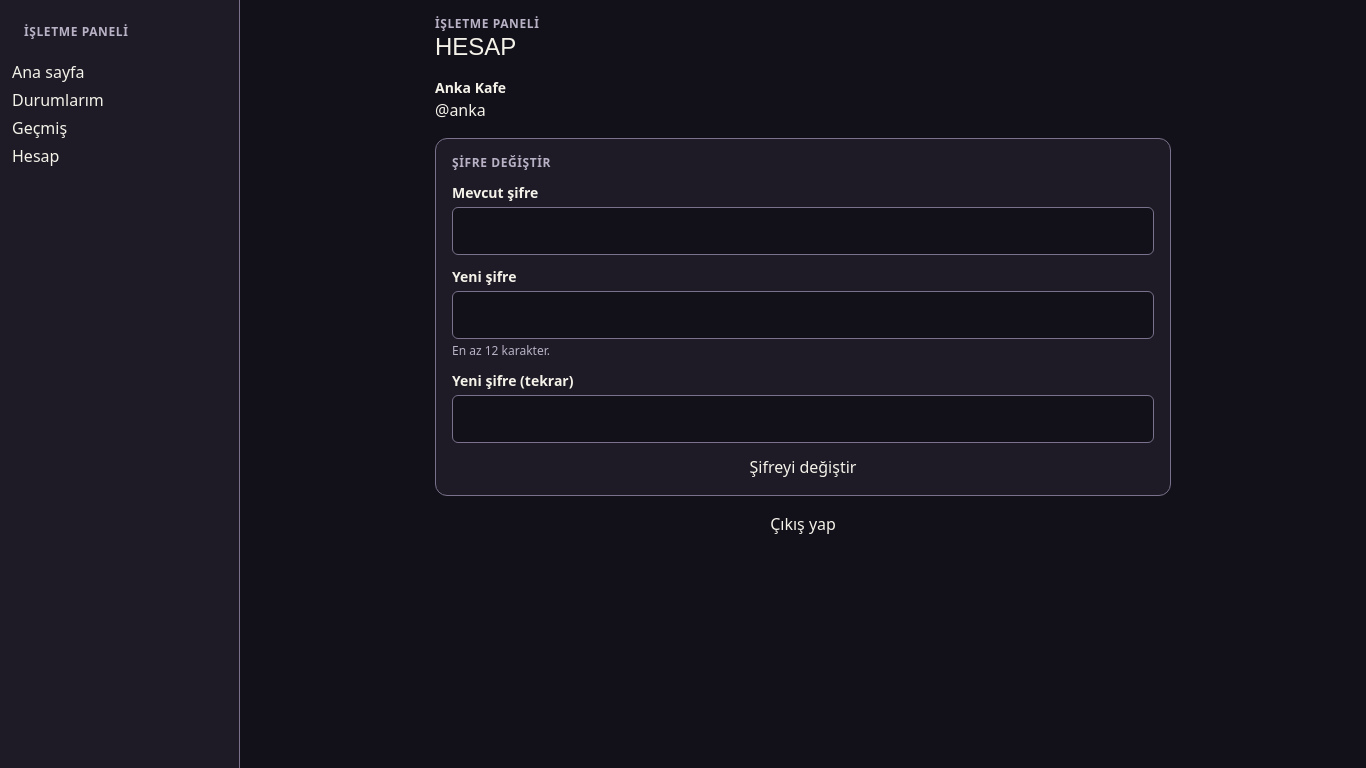
Test: BusinessAccountPage › başarıda "diğer cihazlar" bilgisini gösterir ve öneri bandını kapatır
The image size is (1366, 768).
Type "eski-sifre-123" into the password field labelled "Mevcut şifre". click: (803,231)
box: [452,207,1154,255]
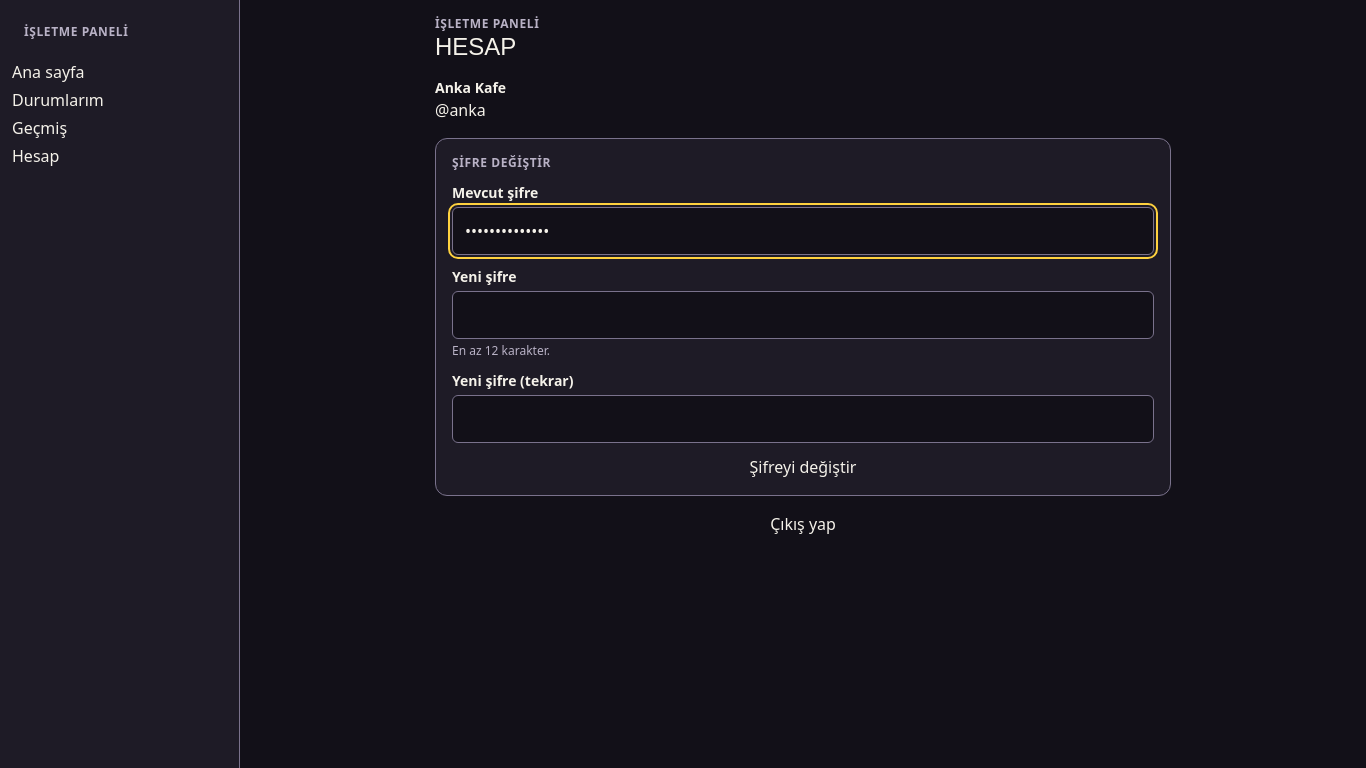
Type "yeni-sifre-1234" into the password field labelled "Yeni şifre". click: (803,315)
box: [452,291,1154,339]
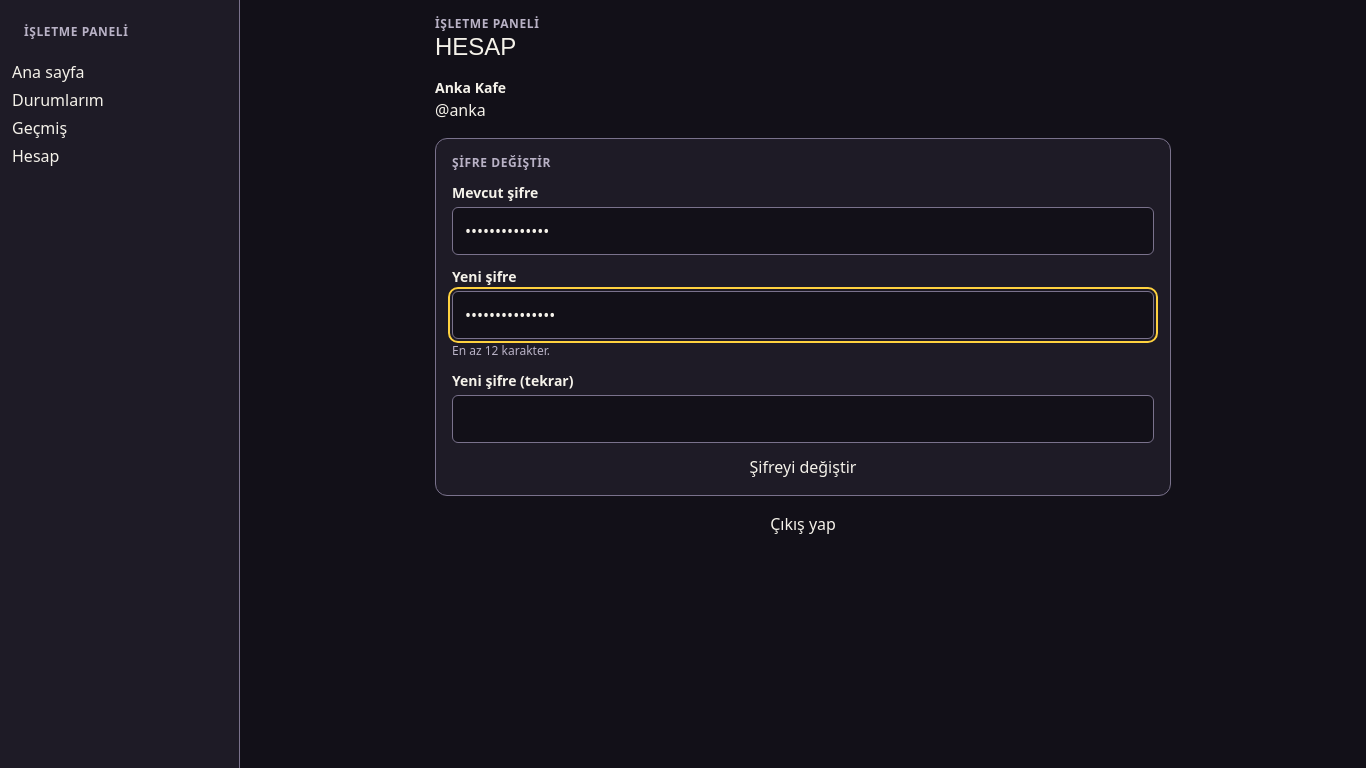
Type "yeni-sifre-1234" into the password field labelled "Yeni şifre (tekrar)". click: (803,419)
box: [452,395,1154,443]
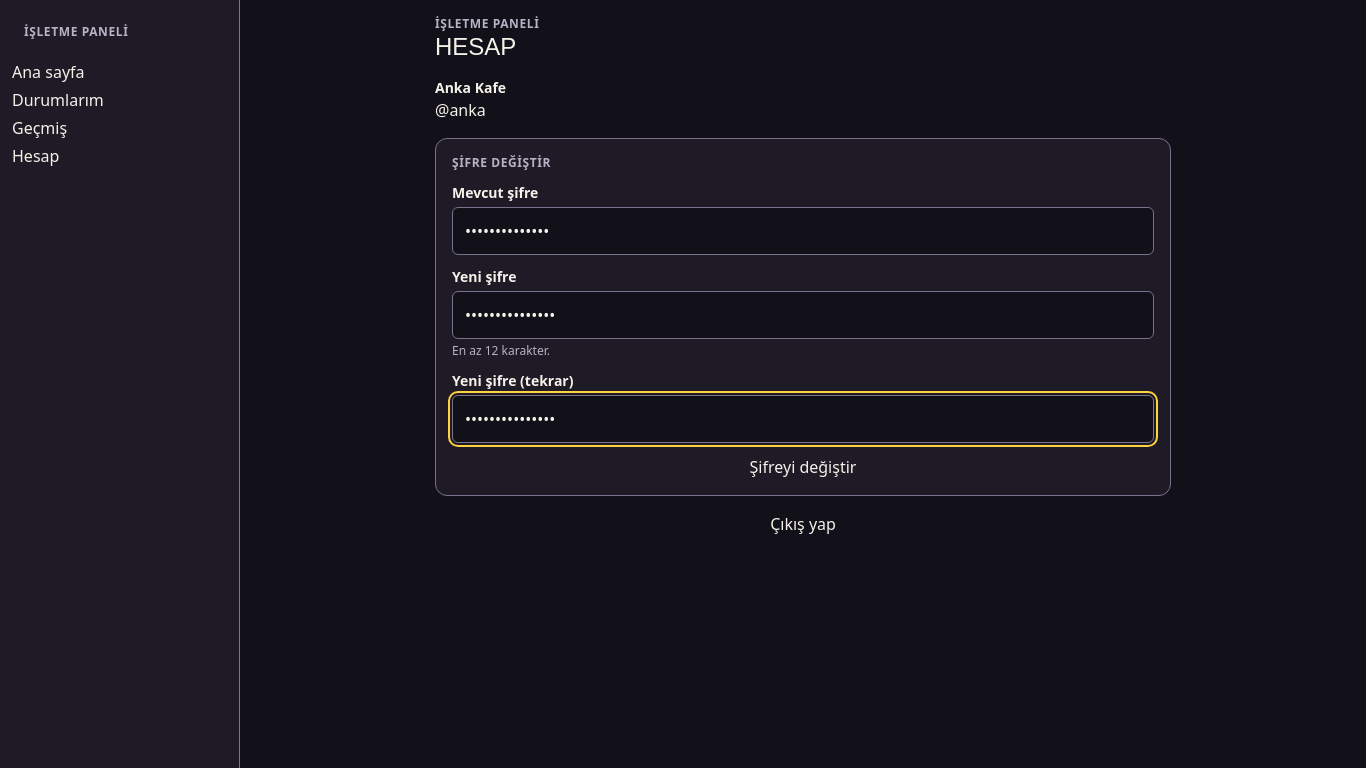
Click the button "Şifreyi değiştir". click: (803,467)
box: [452,455,1154,479]
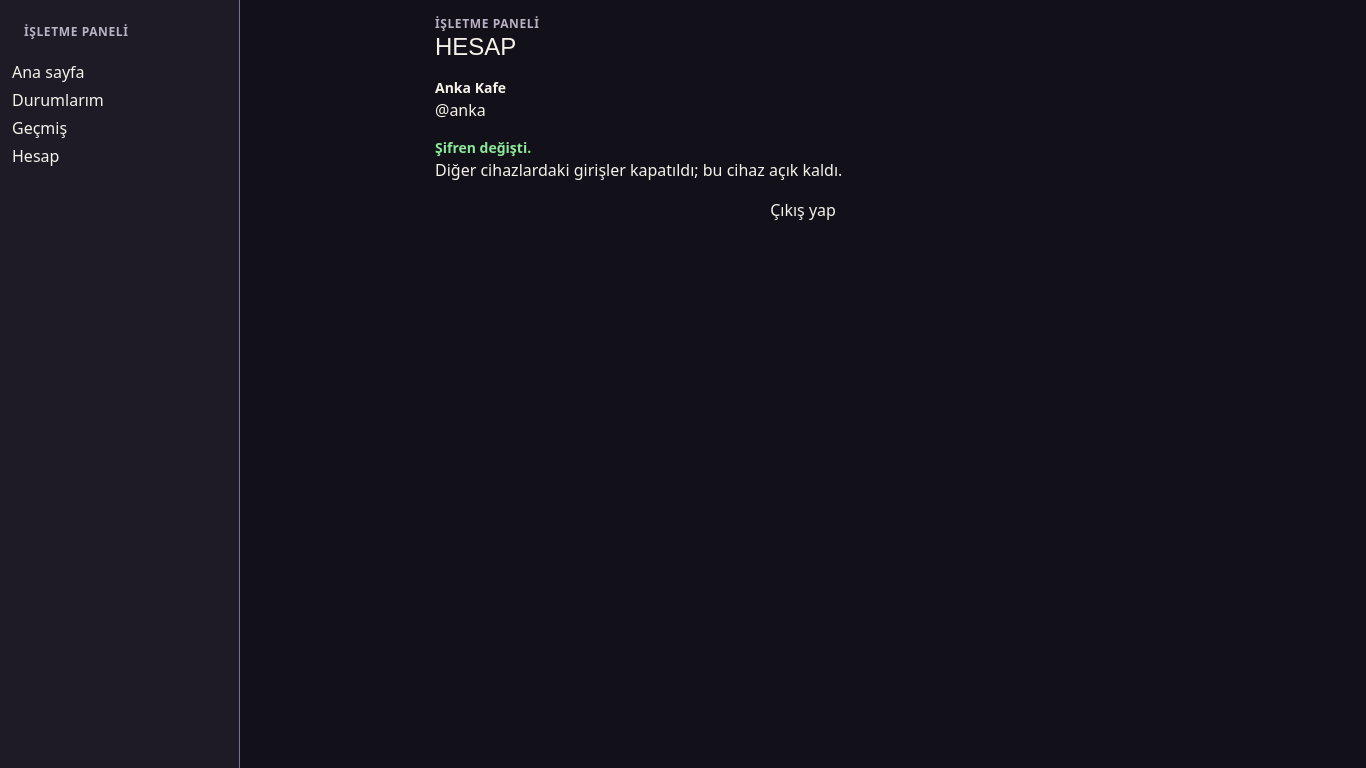
Result: the text "Diğer cihazlardaki girişler kapatıldı; bu cihaz açık kaldı." is shown at [435,159,842,181]
